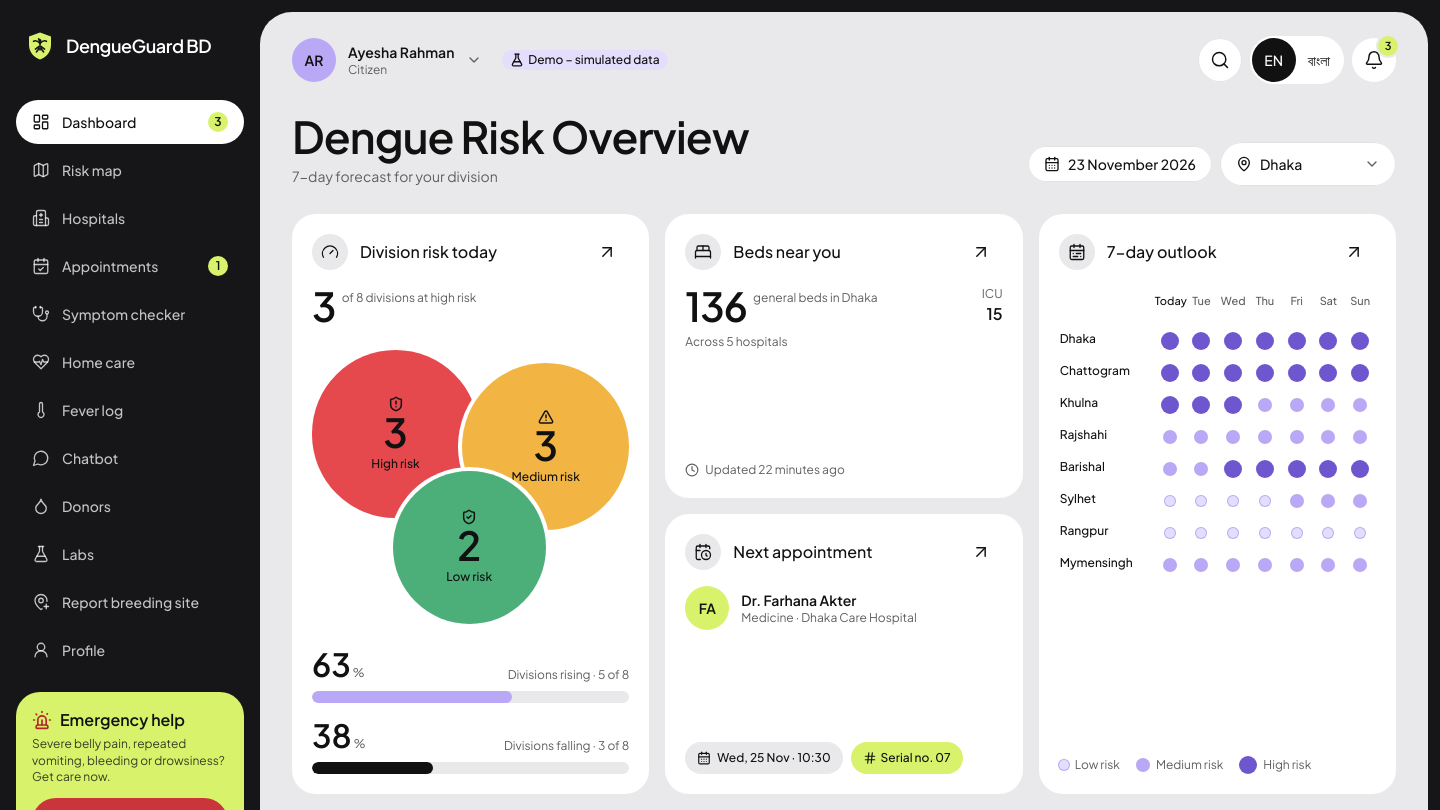
Test case: Dashboard (/) › updates the beds card when the division changes
The image size is (1440, 810).
Expected: the text "general beds in Dhaka" is shown, x1=753 y1=290 x2=878 y2=305
Step 1. Select "Sylhet" in the dropdown named "Division" → x=1308, y=164, box x1=1220 y1=142 x2=1396 y2=186
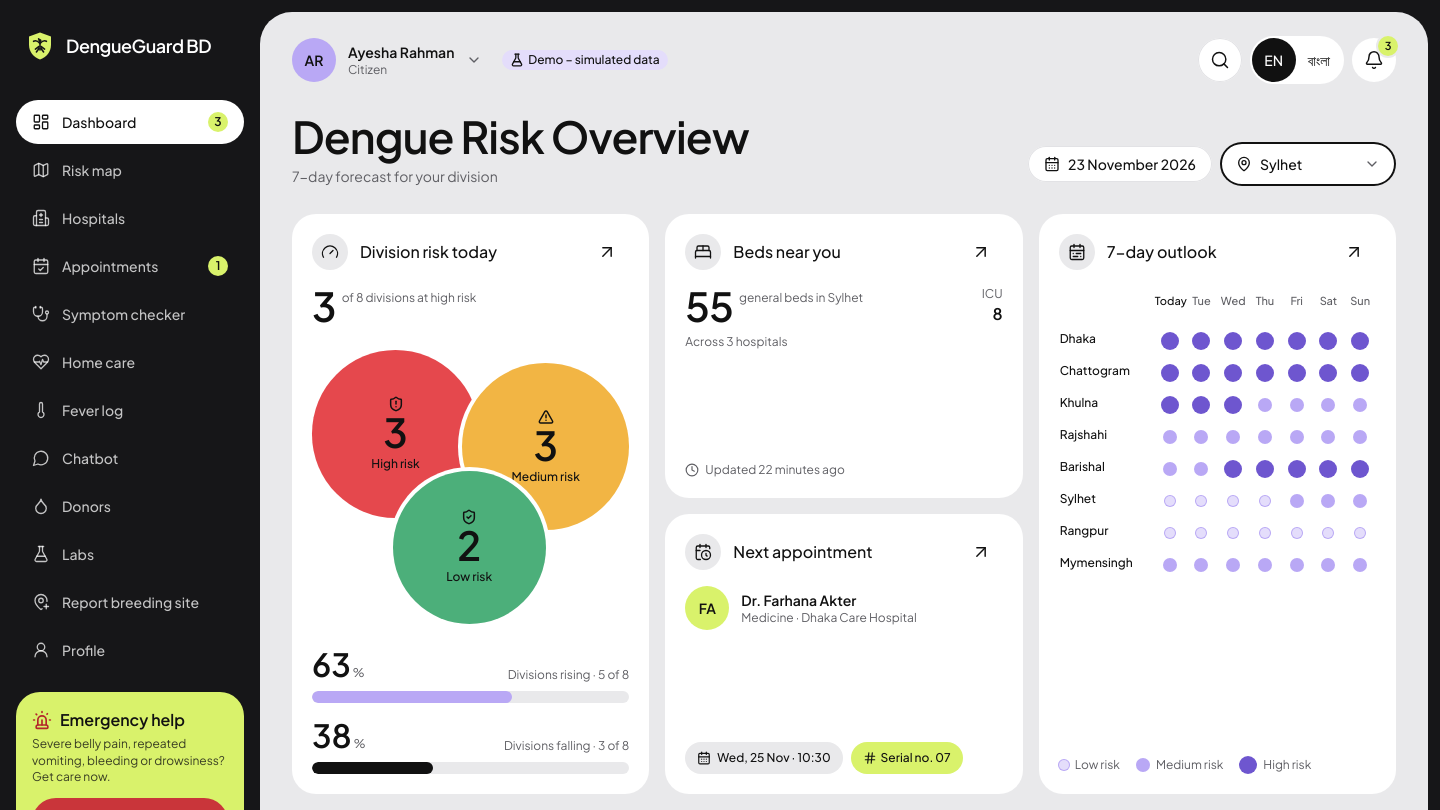
Now the text "general beds in Sylhet" is shown, box x1=739 y1=290 x2=863 y2=305
